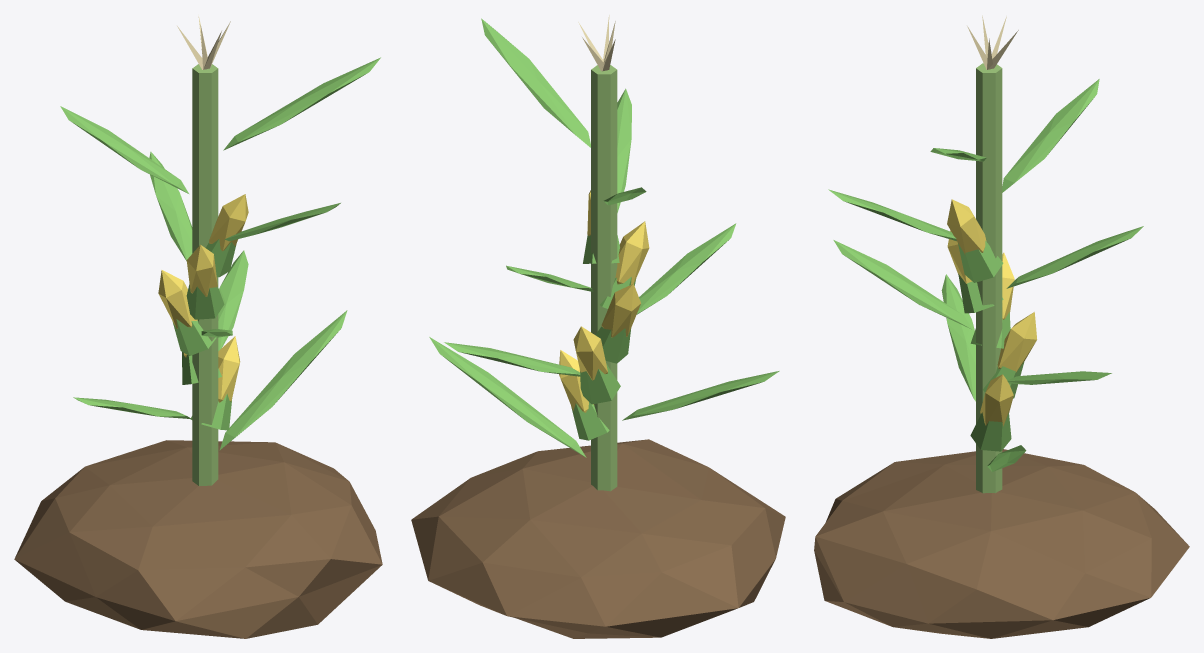
The model's file is mais_3_mur.fbx.
The picture shows the model from 3 angles, left to right: view 1: azimuth 30°, elevation 25°; view 2: azimuth 150°, elevation 25°; view 3: azimuth 270°, elevation 25°; orthographic projection. The views are drawn at different scales.
Parts seen in each view (by area): view 1: mais_3_mur; view 2: mais_3_mur; view 3: mais_3_mur.
Part boxes in pixels (<box>): mais_3_mur: <box>14,16,382,638</box>; mais_3_mur: <box>411,15,785,638</box>; mais_3_mur: <box>814,15,1189,638</box>.
Size of the model in its own units: 1.01 by 1.71 by 0.9962.
